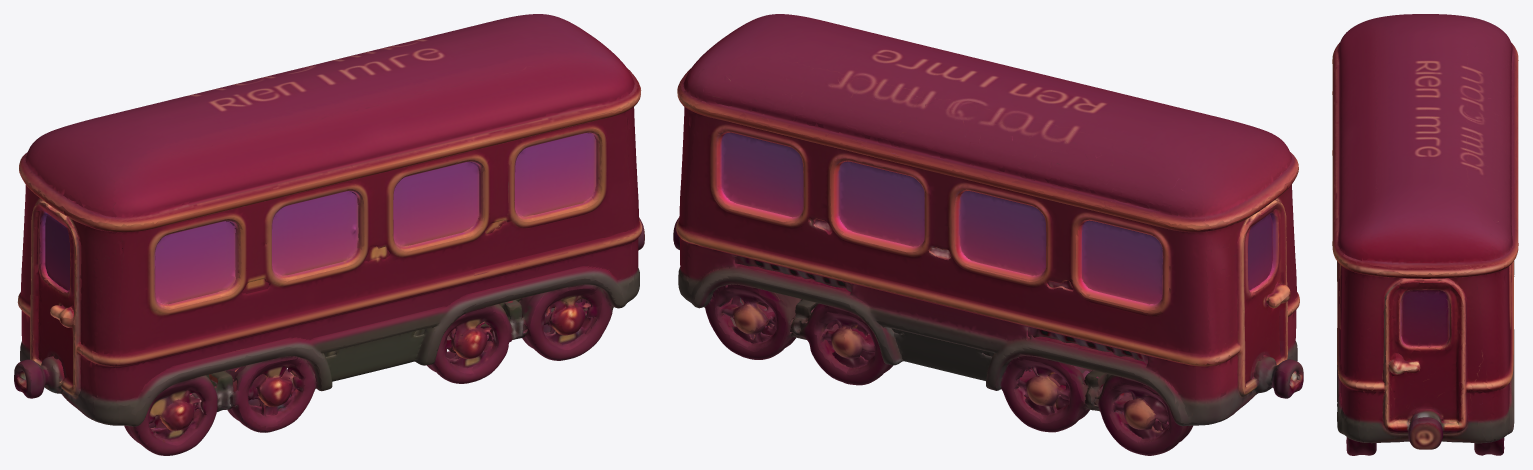
3 views of the same model, side by side, from view 1: azimuth 30°, elevation 25°; view 2: azimuth 150°, elevation 25°; view 3: azimuth 270°, elevation 25° (orthographic). The views are drawn at different scales.
Parts seen in each view (by area): view 1: geometry_0; view 2: geometry_0; view 3: geometry_0.
Part boxes in pixels (<box>): geometry_0: <box>14,14,644,455</box>; geometry_0: <box>673,14,1303,455</box>; geometry_0: <box>1332,14,1518,455</box>.
Size of the model in its own units: 12 by 5.53 by 3.59.
1 material, 1 textured.
